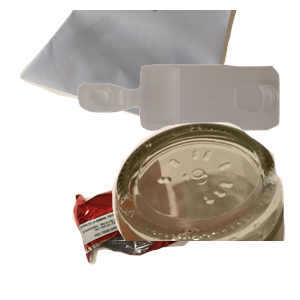glass: (89, 120, 300, 300)
paper: (17, 10, 254, 141)
plastic: (75, 62, 300, 186)
trash: (70, 162, 257, 300)
